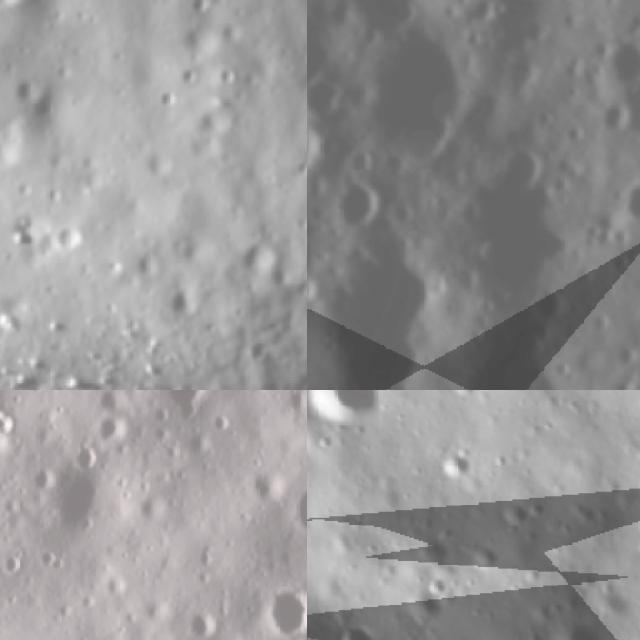crater: (350, 21, 502, 186), (424, 331, 607, 390), (311, 0, 471, 58), (30, 458, 123, 554), (479, 129, 559, 212), (320, 167, 391, 240), (245, 562, 307, 640), (307, 390, 397, 438), (234, 225, 296, 288), (268, 464, 307, 561), (76, 402, 139, 460), (488, 478, 548, 538), (424, 440, 482, 497), (597, 22, 640, 98), (307, 68, 356, 134), (541, 601, 621, 640), (587, 89, 640, 144), (148, 390, 221, 429), (611, 167, 640, 240), (164, 275, 205, 323), (328, 610, 390, 640), (48, 216, 92, 257), (286, 305, 307, 389), (8, 67, 45, 109), (307, 262, 333, 319), (623, 287, 640, 370), (153, 82, 184, 120), (124, 247, 157, 280), (175, 56, 203, 86), (179, 0, 220, 20), (219, 59, 239, 91), (291, 152, 307, 181)
